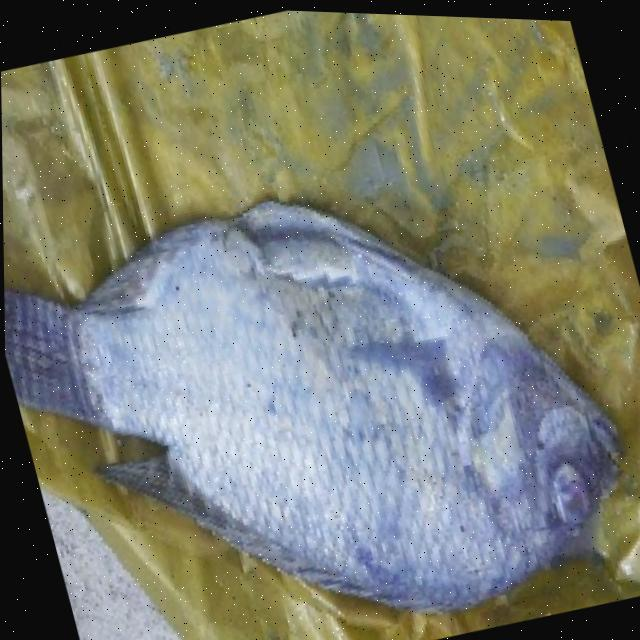Non-Fresh: (140, 201, 640, 640), (524, 441, 604, 542)
